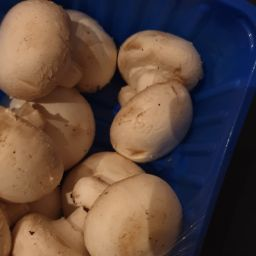Mushrooms: (112, 15, 209, 172), (73, 140, 187, 256), (3, 99, 98, 199), (3, 5, 89, 100), (4, 191, 110, 256)
